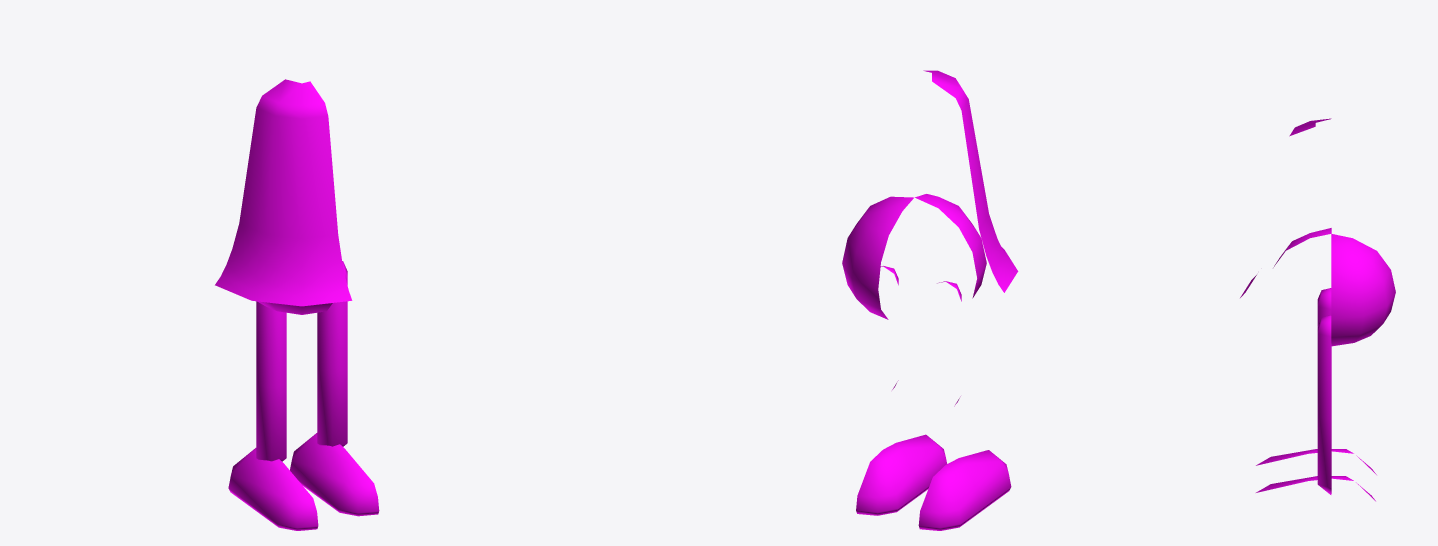
Rendered from ava_bodyB2__ava_bodyB2.glb.
The picture shows the model from 3 angles, left to right: view 1: azimuth 30°, elevation 25°; view 2: azimuth 150°, elevation 25°; view 3: azimuth 270°, elevation 25°; orthographic projection. The views are drawn at different scales.
Visible parts, largest first — view 1: polygon0; view 2: polygon0; view 3: polygon0.
Boxes of the visible parts, x1,y1,x2,y2 form: polygon0: (215, 79, 379, 530); polygon0: (842, 70, 1018, 530); polygon0: (1240, 118, 1395, 501).
Bounding box in the file's own units: 14 × 11 × 4.3.
1 material, 1 textured.
